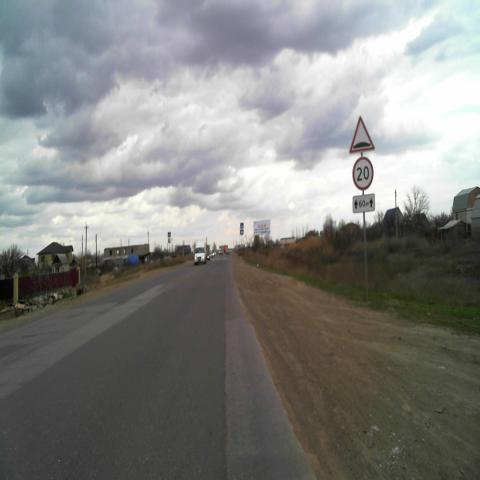1_17: (350, 116, 374, 154)
